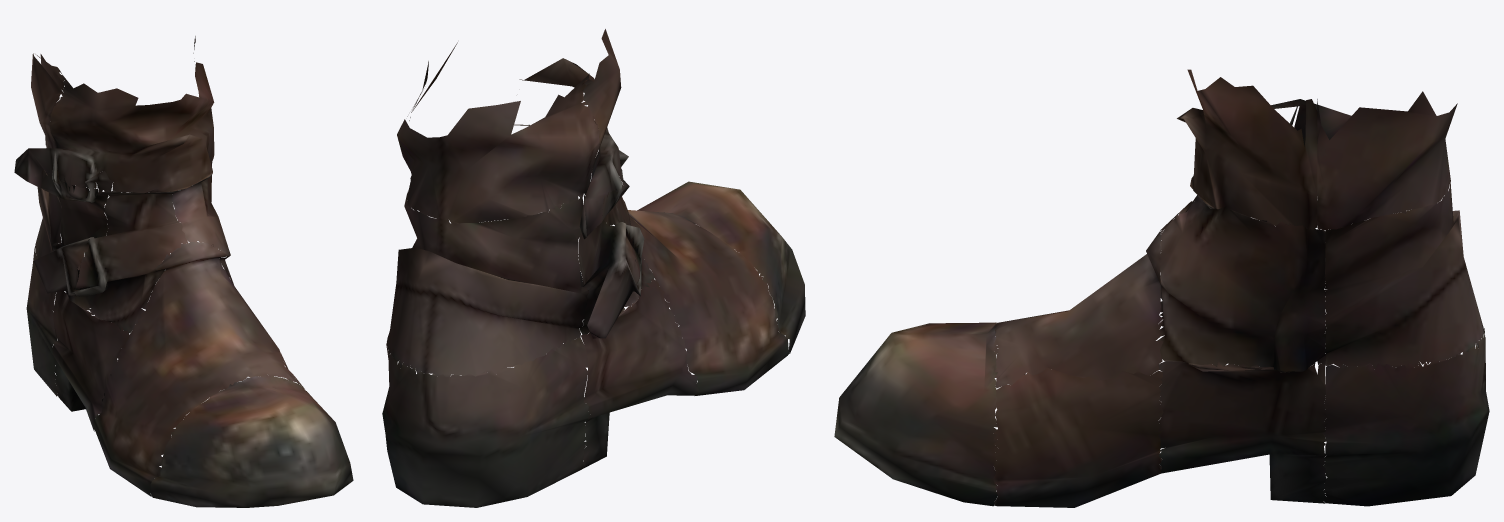
The model's file is a_ranger_boots_L_foot.glb.
The picture shows the model from 3 angles, left to right: view 1: azimuth 30°, elevation 25°; view 2: azimuth 150°, elevation 25°; view 3: azimuth 270°, elevation 25°; orthographic projection. The views are drawn at different scales.
Visible parts, largest first — view 1: geometry_0.001; view 2: geometry_0.001; view 3: geometry_0.001.
Boxes of the visible parts, x1,y1,x2,y2 form: geometry_0.001: (14,36,353,507); geometry_0.001: (382,29,805,507); geometry_0.001: (834,69,1489,507).
Bounding box in the file's own units: 0.1052 × 0.1776 × 0.2503.
1 material, 1 textured.
